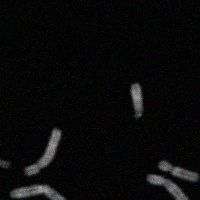chromosome: (23, 129, 60, 174), (147, 174, 188, 200), (160, 159, 200, 182), (9, 184, 66, 200), (130, 83, 143, 118), (0, 154, 8, 167)
